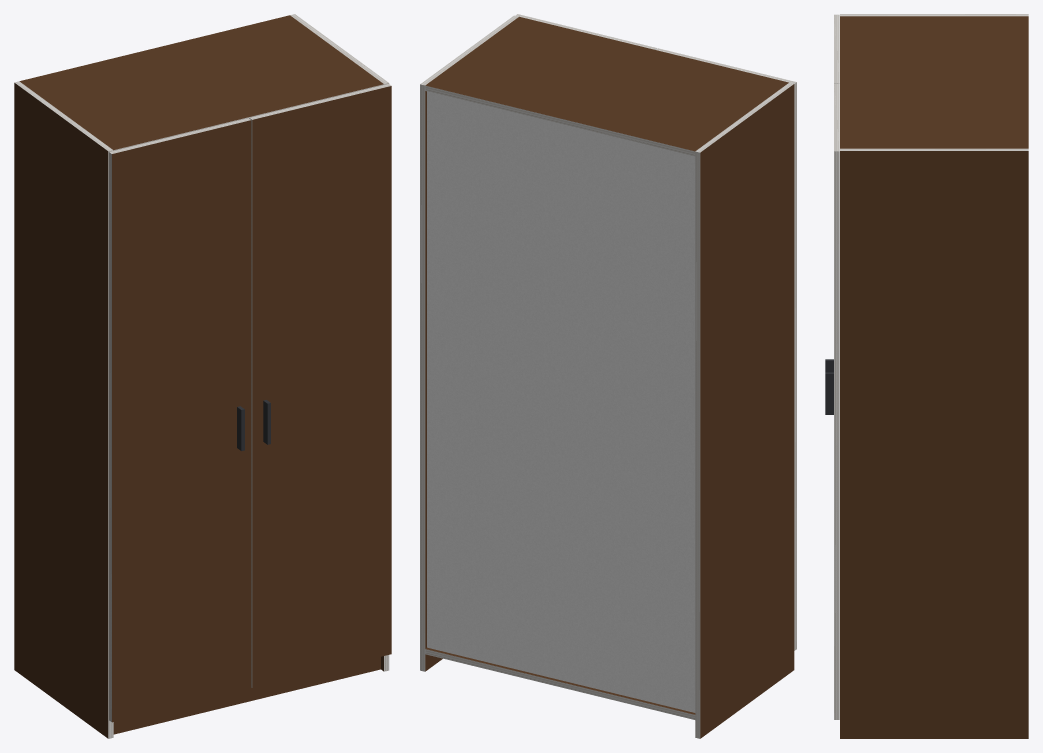
Rendered from ATL-WRD-single.glb.
The picture shows the model from 3 angles, left to right: view 1: azimuth 30°, elevation 25°; view 2: azimuth 150°, elevation 25°; view 3: azimuth 270°, elevation 25°; orthographic projection.
Visible parts, largest first — view 1: door-r:pbr, door-l:pbr, side-l:pbr, top:pbr, plinth:pbr, door-l:sheet:eyJtIjoicGx5Iiwic2lkZSI6ImVkZ2UtbG9uZyIsInNlZWQ, door-r:sheet:eyJtIjoicGx5Iiwic2lkZSI6ImVkZ2UtbG9uZyIsInNlZWQ, pull, side-l:sheet:eyJtIjoicGx5Iiwic2lkZSI6ImVkZ2UtbG9uZyIsInNlZWQ; view 2: back:sheet:eyJtIjoibWRmIiwic2lkZSI6ImZhY2UiLCJzZWVkIjoxLCJ0a, side-l:pbr, top:pbr, side-l:sheet:eyJtIjoicGx5Iiwic2lkZSI6ImVkZ2UtbG9uZyIsInNlZWQ, side-r:sheet:eyJtIjoicGx5Iiwic2lkZSI6ImVkZ2UtbG9uZyIsInNlZWQ, door-l:sheet:eyJtIjoicGx5Iiwic2lkZSI6ImVkZ2UtbG9uZyIsInNlZWQ, bottom:sheet:eyJtIjoicGx5Iiwic2lkZSI6ImVkZ2UtbG9uZyIsInNlZWQ, top:sheet:eyJtIjoicGx5Iiwic2lkZSI6ImVkZ2UtbG9uZyIsInNlZWQiOj, side-r:pbr, bottom:pbr; view 3: side-r:pbr, top:pbr, door-r:sheet:eyJtIjoicGx5Iiwic2lkZSI6ImVkZ2UtbG9uZyIsInNlZWQ, side-l:sheet:eyJtIjoicGx5Iiwic2lkZSI6ImVkZ2UtZW5kIiwic2VlZCI, side-r:sheet:eyJtIjoicGx5Iiwic2lkZSI6ImVkZ2UtZW5kIiwic2VlZCI, pull, door-l:sheet:eyJtIjoicGx5Iiwic2lkZSI6ImVkZ2UtZW5kIiwic2VlZCI, door-r:sheet:eyJtIjoicGx5Iiwic2lkZSI6ImVkZ2UtZW5kIiwic2VlZCI.
Boxes of the visible parts, <box> form: door-r:pbr: <box>252,86,391,687</box>; door-l:pbr: <box>112,120,251,722</box>; side-l:pbr: <box>14,83,108,738</box>; top:pbr: <box>19,15,383,150</box>; plinth:pbr: <box>113,657,380,734</box>; door-l:sheet:eyJtIjoicGx5Iiwic2lkZSI6ImVkZ2UtbG9uZyIsInNlZWQ: <box>109,152,111,721</box>; door-r:sheet:eyJtIjoicGx5Iiwic2lkZSI6ImVkZ2UtbG9uZyIsInNlZWQ: <box>249,118,252,687</box>; pull: <box>237,400,270,451</box>; side-l:sheet:eyJtIjoicGx5Iiwic2lkZSI6ImVkZ2UtbG9uZyIsInNlZWQ: <box>108,150,113,738</box>; back:sheet:eyJtIjoibWRmIiwic2lkZSI6ImZhY2UiLCJzZWVkIjoxLCJ0a: <box>427,91,695,712</box>; side-l:pbr: <box>700,84,794,738</box>; top:pbr: <box>425,16,788,151</box>; side-l:sheet:eyJtIjoicGx5Iiwic2lkZSI6ImVkZ2UtbG9uZyIsInNlZWQ: <box>695,151,700,738</box>; side-r:sheet:eyJtIjoicGx5Iiwic2lkZSI6ImVkZ2UtbG9uZyIsInNlZWQ: <box>420,84,425,671</box>; door-l:sheet:eyJtIjoicGx5Iiwic2lkZSI6ImVkZ2UtbG9uZyIsInNlZWQ: <box>794,82,796,650</box>; bottom:sheet:eyJtIjoicGx5Iiwic2lkZSI6ImVkZ2UtbG9uZyIsInNlZWQ: <box>425,649,695,719</box>; top:sheet:eyJtIjoicGx5Iiwic2lkZSI6ImVkZ2UtbG9uZyIsInNlZWQiOj: <box>425,85,695,156</box>; side-r:pbr: <box>425,91,442,671</box>; bottom:pbr: <box>425,647,695,714</box>; side-r:pbr: <box>840,151,1028,738</box>; top:pbr: <box>840,16,1028,148</box>; door-r:sheet:eyJtIjoicGx5Iiwic2lkZSI6ImVkZ2UtbG9uZyIsInNlZWQ: <box>834,151,839,719</box>; side-l:sheet:eyJtIjoicGx5Iiwic2lkZSI6ImVkZ2UtZW5kIiwic2VlZCI: <box>840,14,1028,16</box>; side-r:sheet:eyJtIjoicGx5Iiwic2lkZSI6ImVkZ2UtZW5kIiwic2VlZCI: <box>840,148,1028,150</box>; pull: <box>825,359,833,414</box>; door-l:sheet:eyJtIjoicGx5Iiwic2lkZSI6ImVkZ2UtZW5kIiwic2VlZCI: <box>834,14,839,82</box>; door-r:sheet:eyJtIjoicGx5Iiwic2lkZSI6ImVkZ2UtZW5kIiwic2VlZCI: <box>834,83,839,151</box>.
Size of the model in its own units: 1 by 2 by 0.6271.
Materials: 34 (23 with a texture image).
